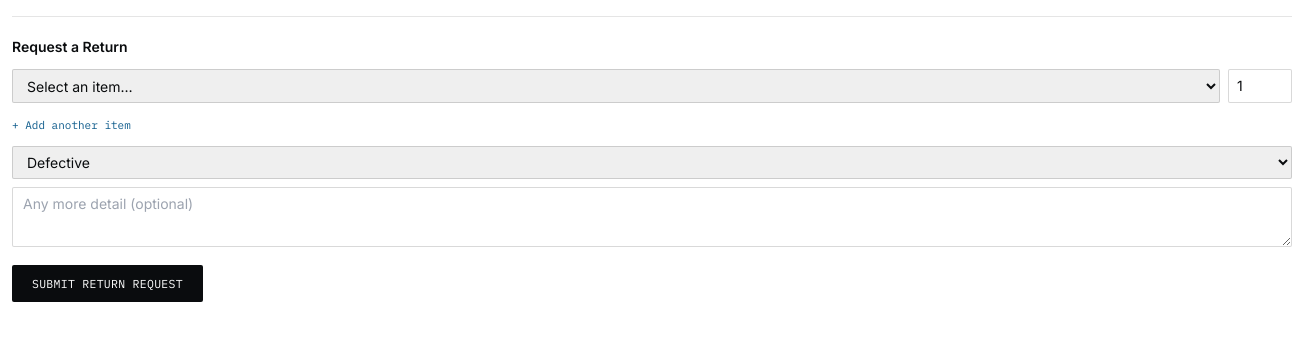
Test: RequestReturnForm › adds a second item row when "Add another item" is clicked
Click the button "+ Add another item" at {"x": 71, "y": 125}, box [12,117,131,134]
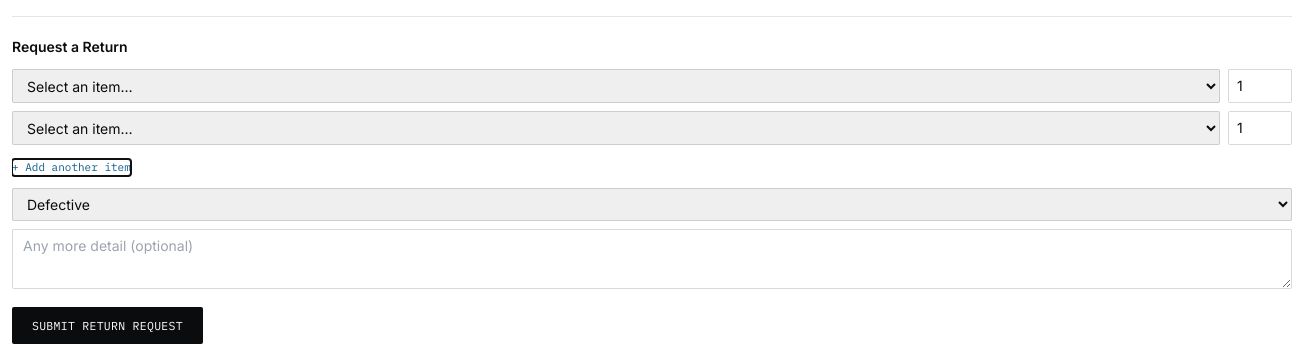
Result: the number of dropdowns is 3 at [12,69,1220,103]; [12,111,1220,145]; [12,188,1292,220]
